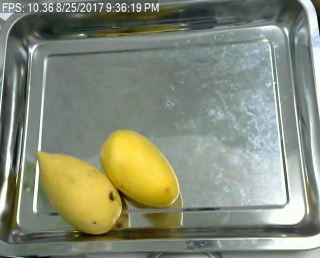Mango: (27, 140, 122, 238), (97, 122, 185, 210)
